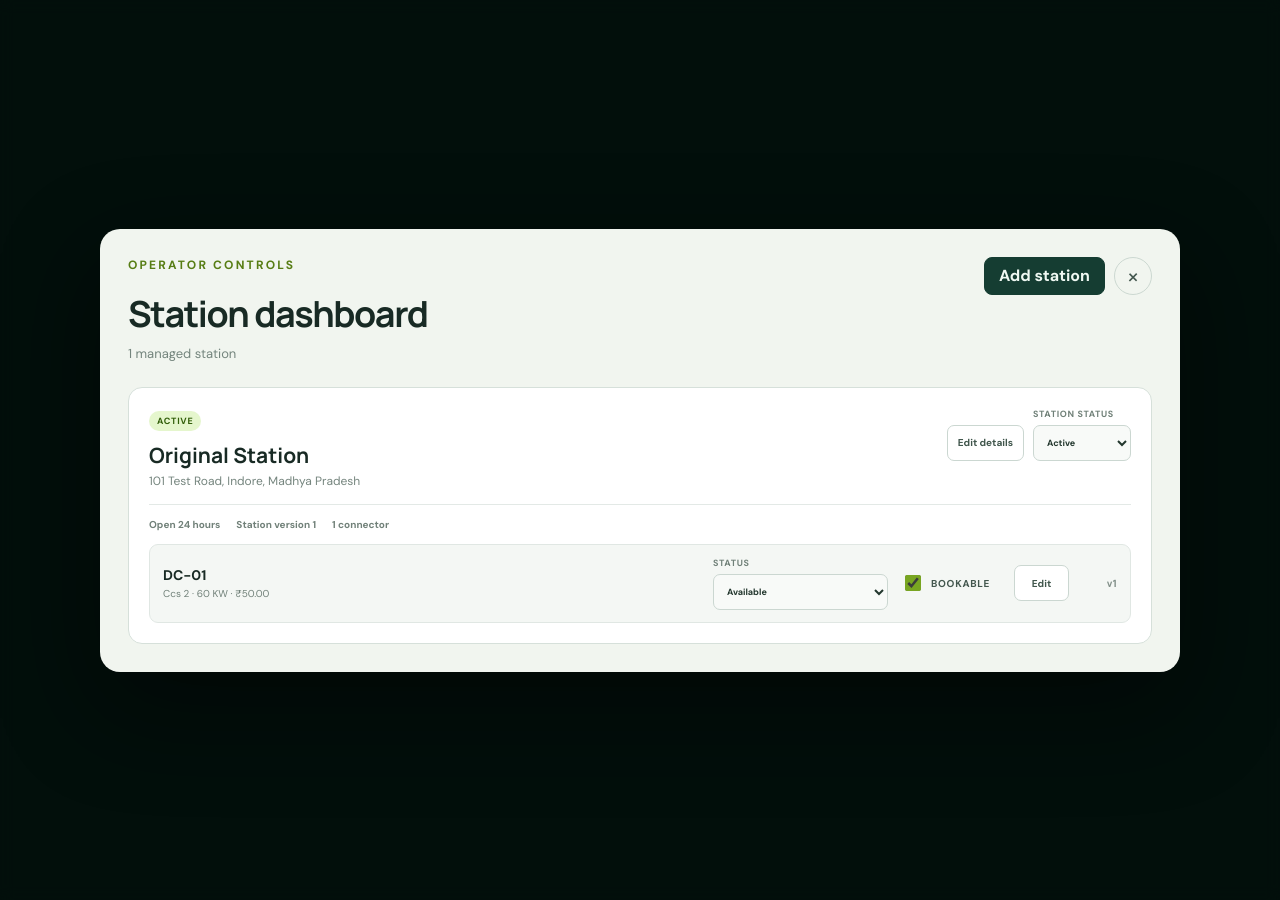
Test: StationAdminPanel › keeps conflict feedback visible after refreshing stale station data
Expected: the heading "Original Station" is shown, 149,440 -> 309,468
Select "maintenance" in the dropdown labelled "Station status" at x=1082, y=442, box 1033,424 -> 1131,460
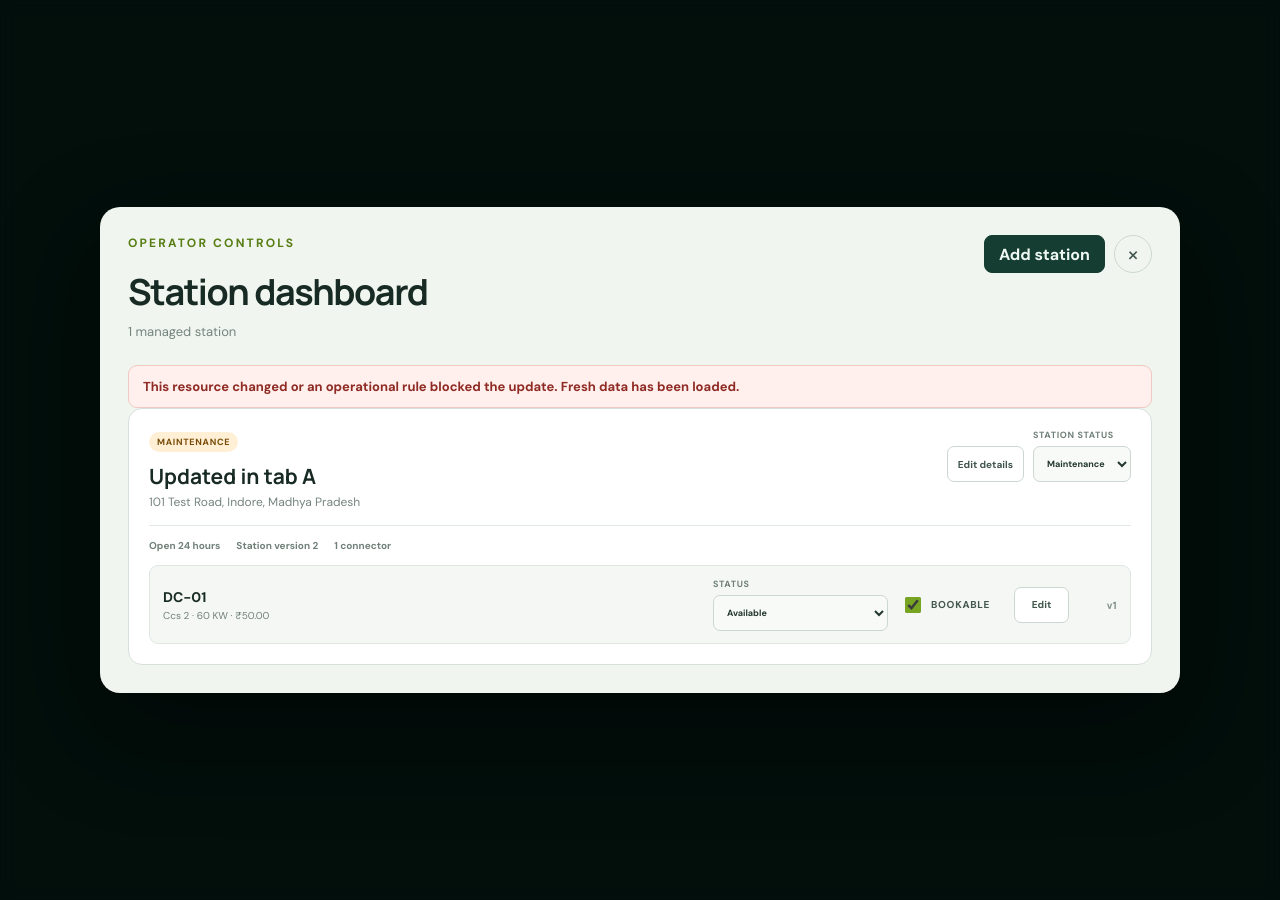
Now the heading "Updated in tab A" is shown, box 149,462 -> 316,490
Now the message shows "Fresh data has been loaded", box 143,378 -> 739,395
